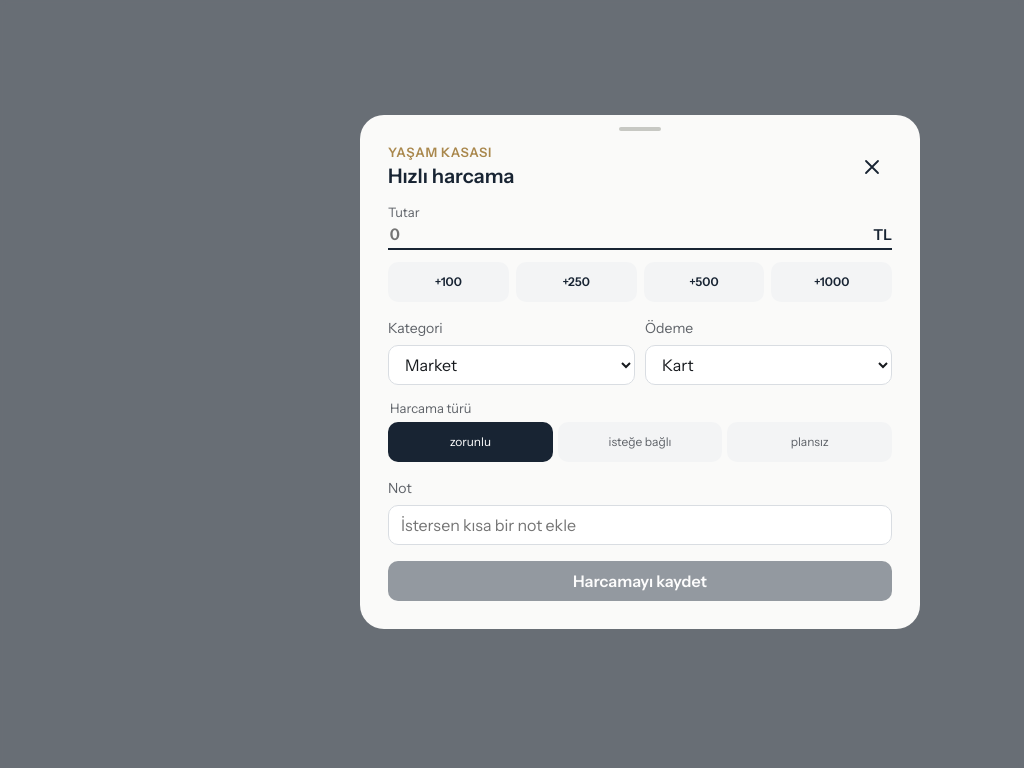
Test: QuickExpenseSheet › +100 button adds to amount
Click the button "+100". click: {"x": 448, "y": 282}
box: [388,262,509,302]
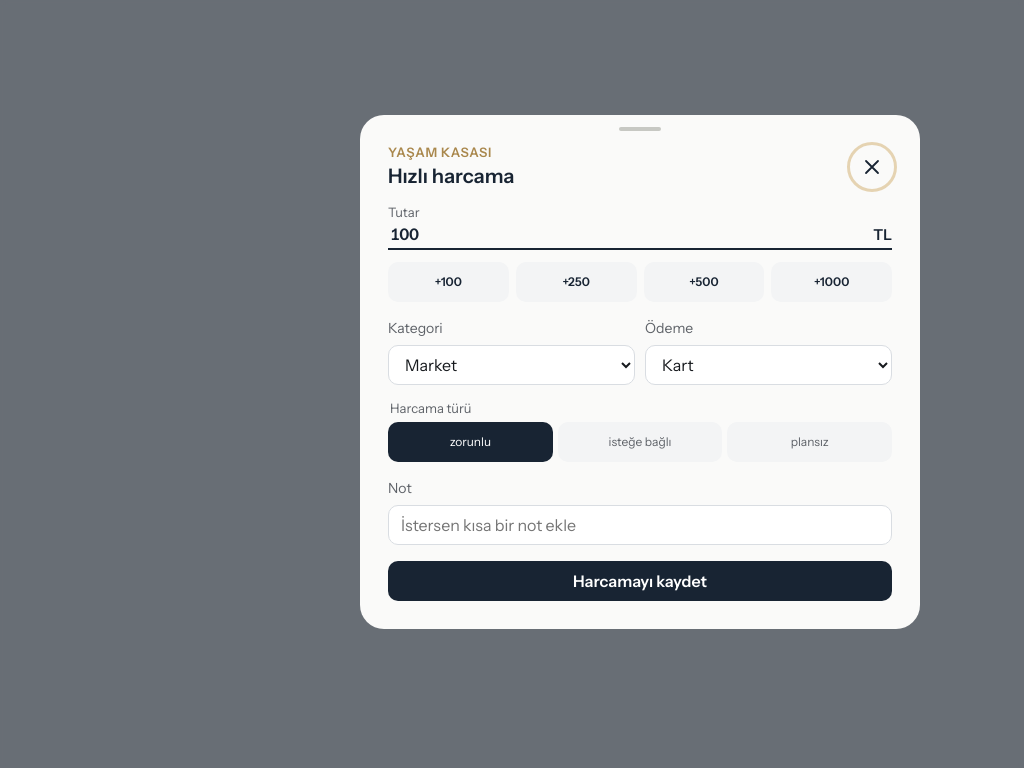
Expected: the field named "Harcama tutarı" holds "100", [388,223,873,245]
